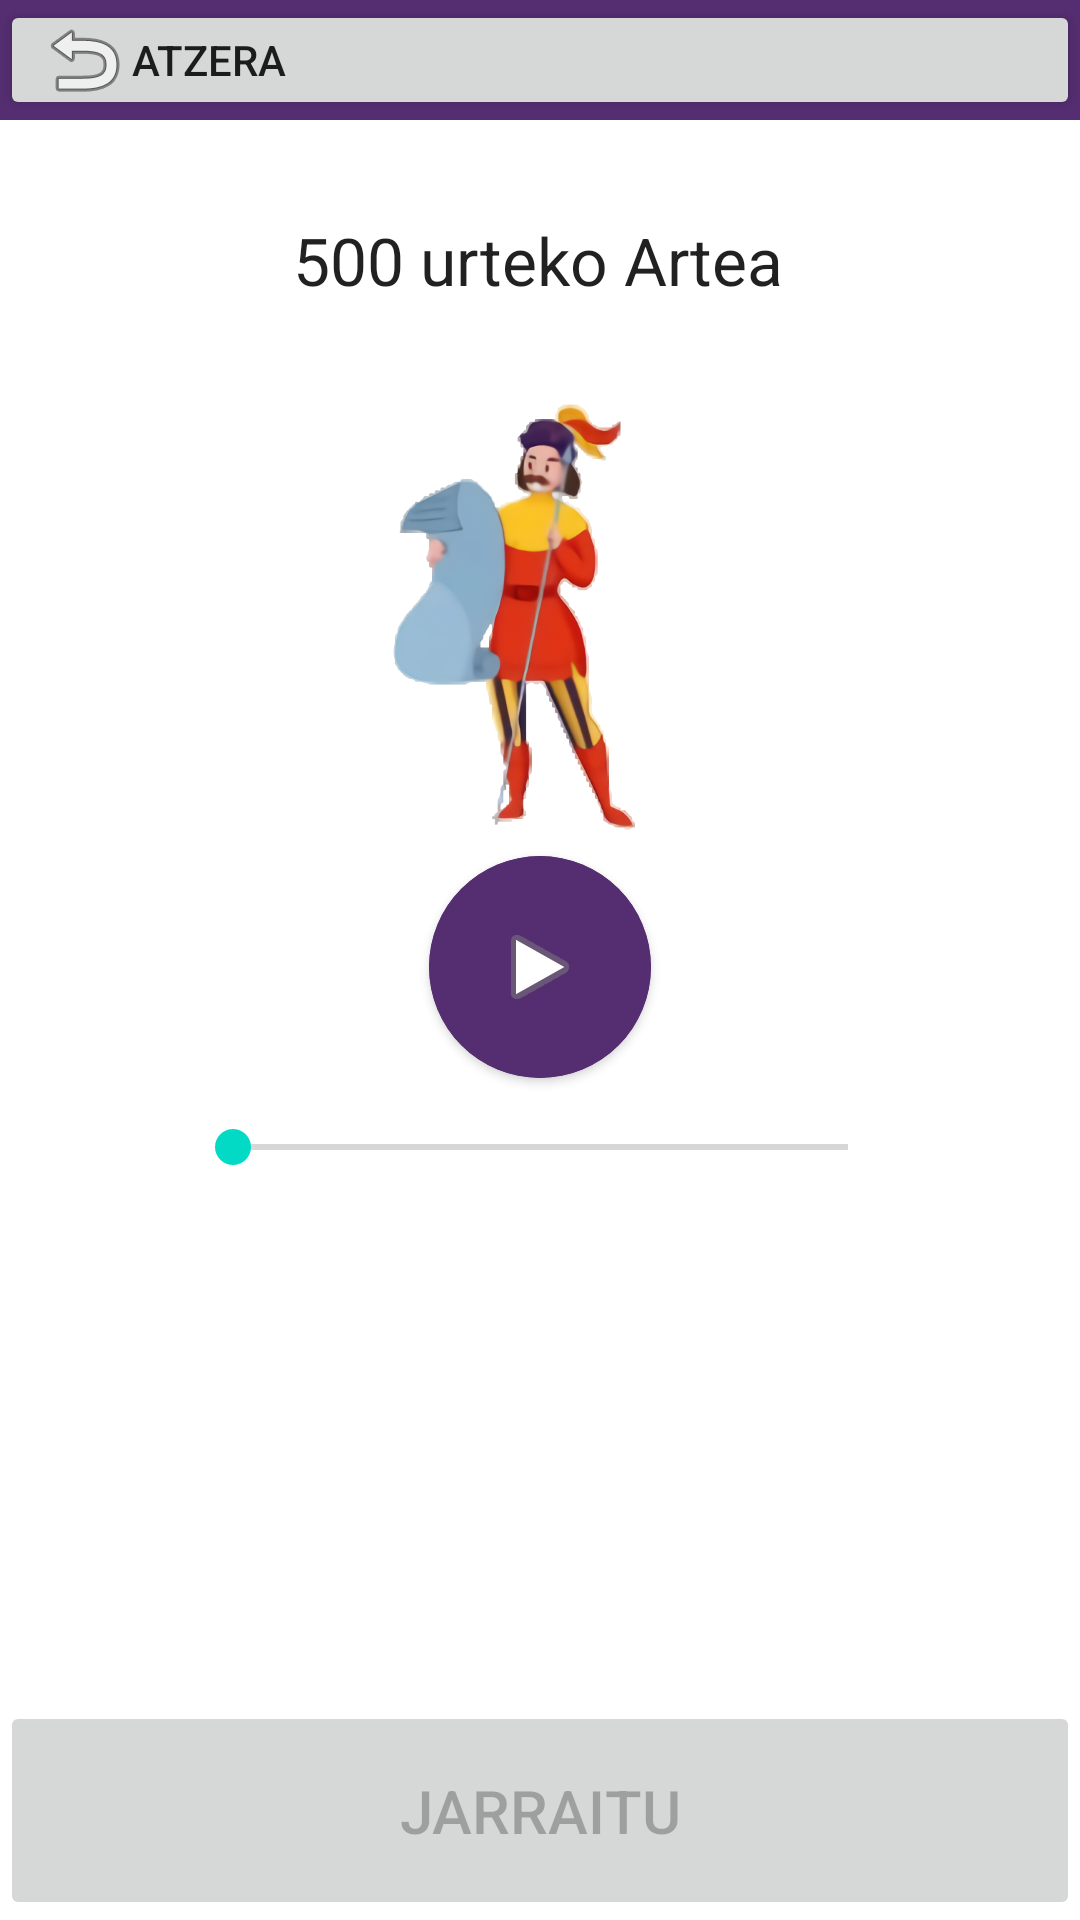

Where to tap for icons on this 1080 × 1920 app screen, as (x,y):
play: (540,967)
